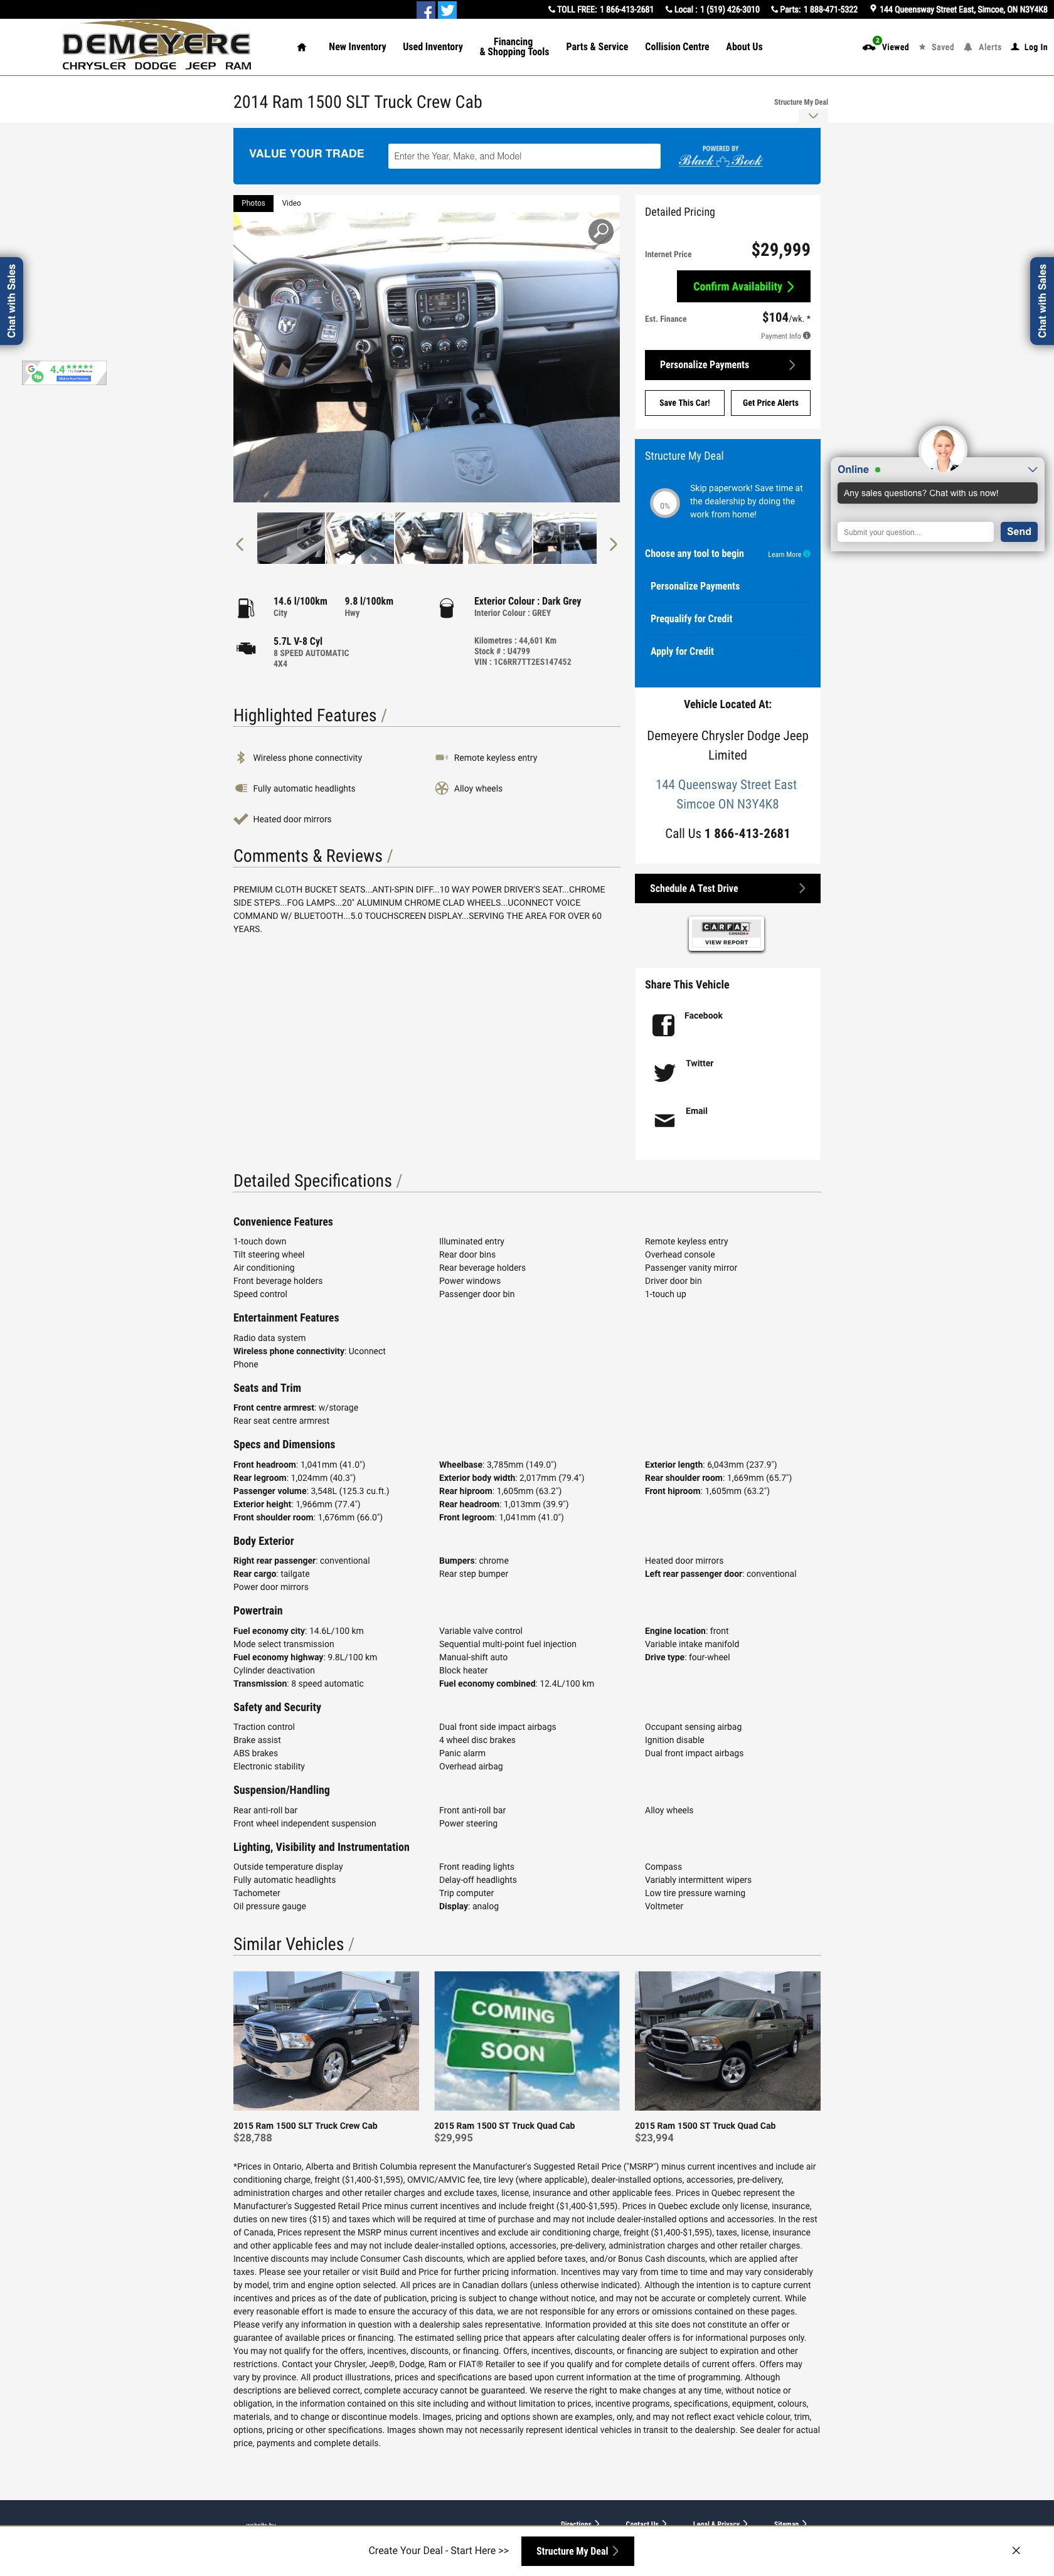car: (610, 539, 617, 552)
